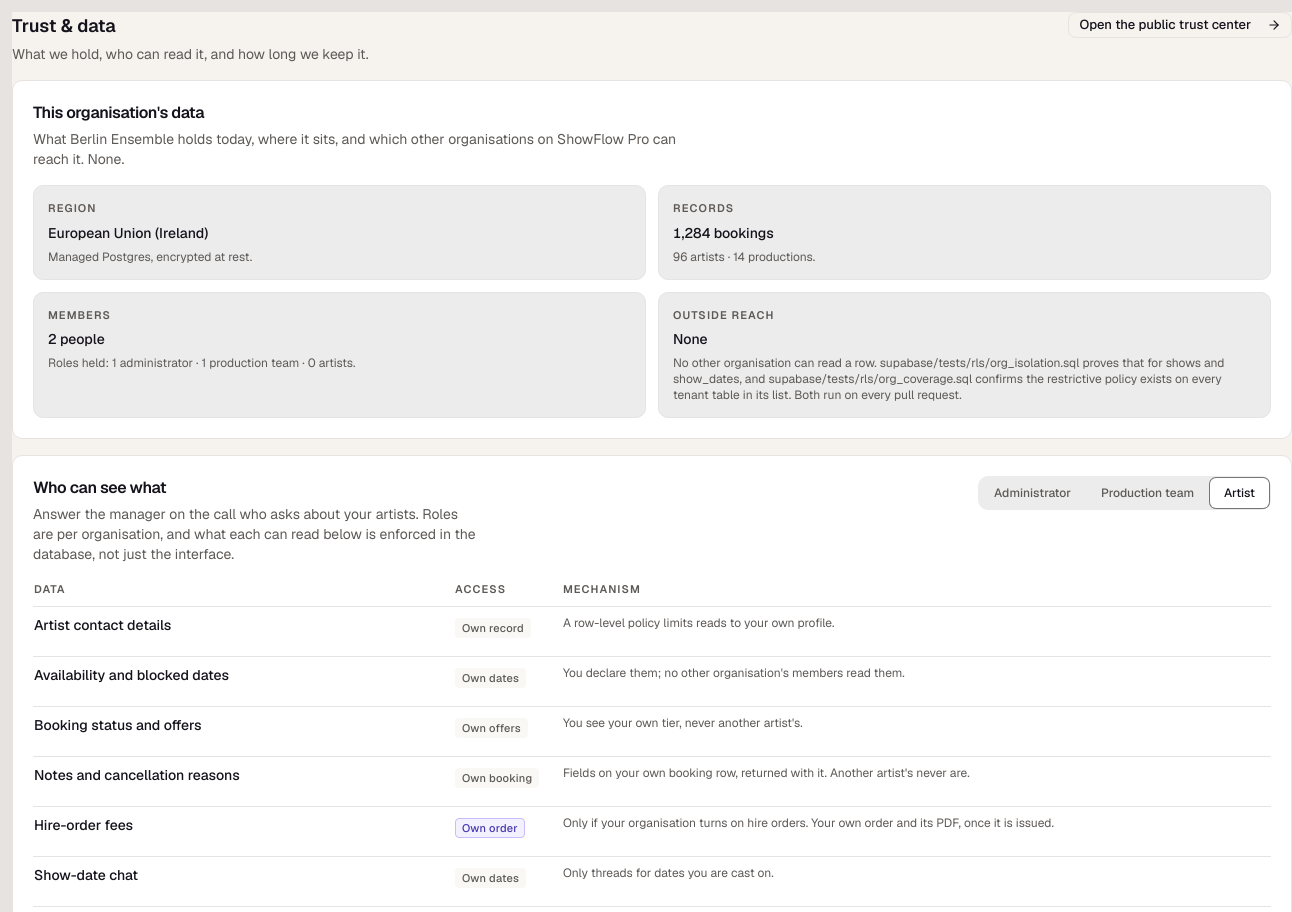
Test: TrustDataTab › shows chat as unrestricted for both staff roles inside the org
Click the radio button labelled "Production team": (1148,493) [1087, 478, 1208, 508]
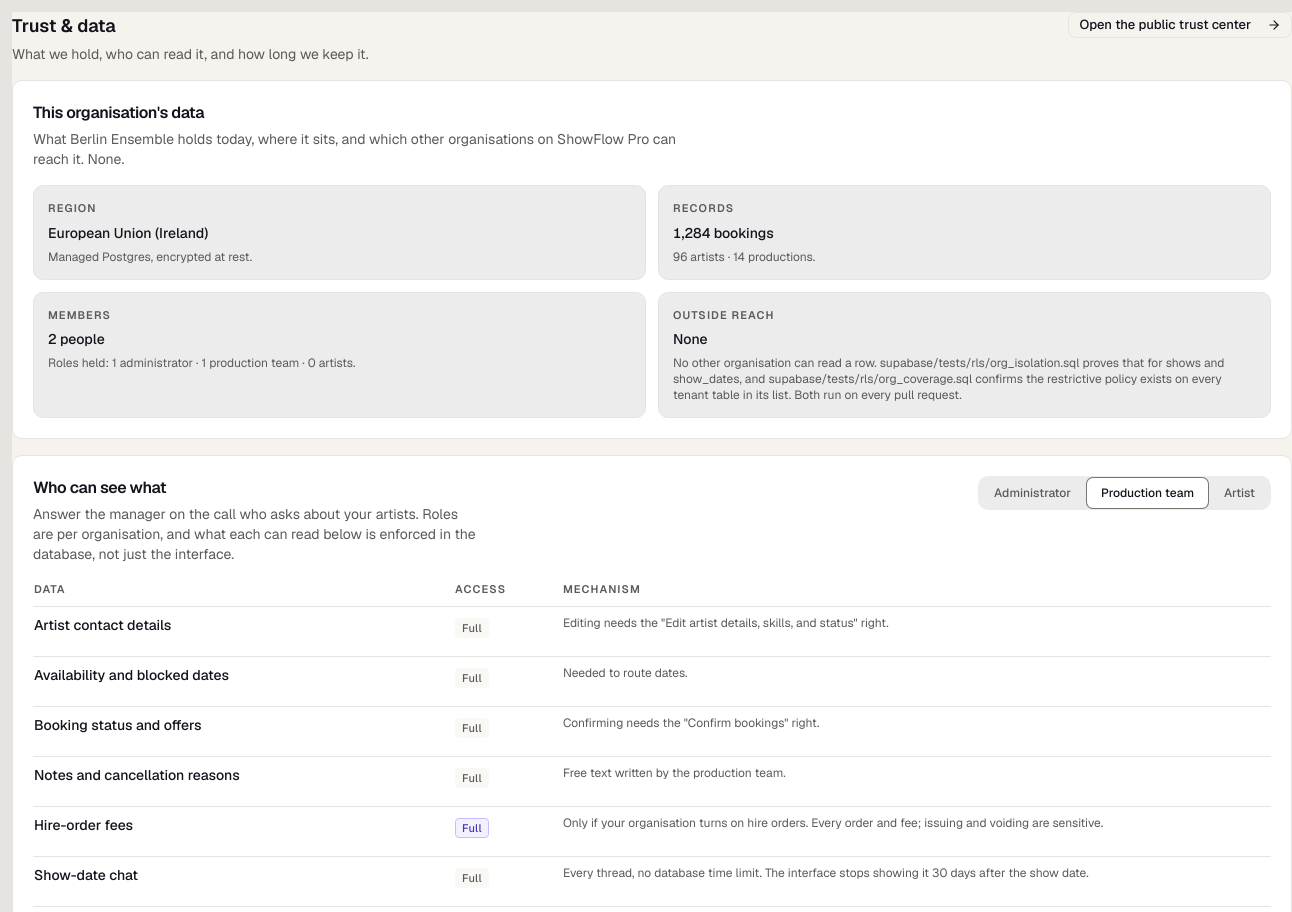
Expected: the 6th text "Full" is shown, [455, 868, 489, 888]
